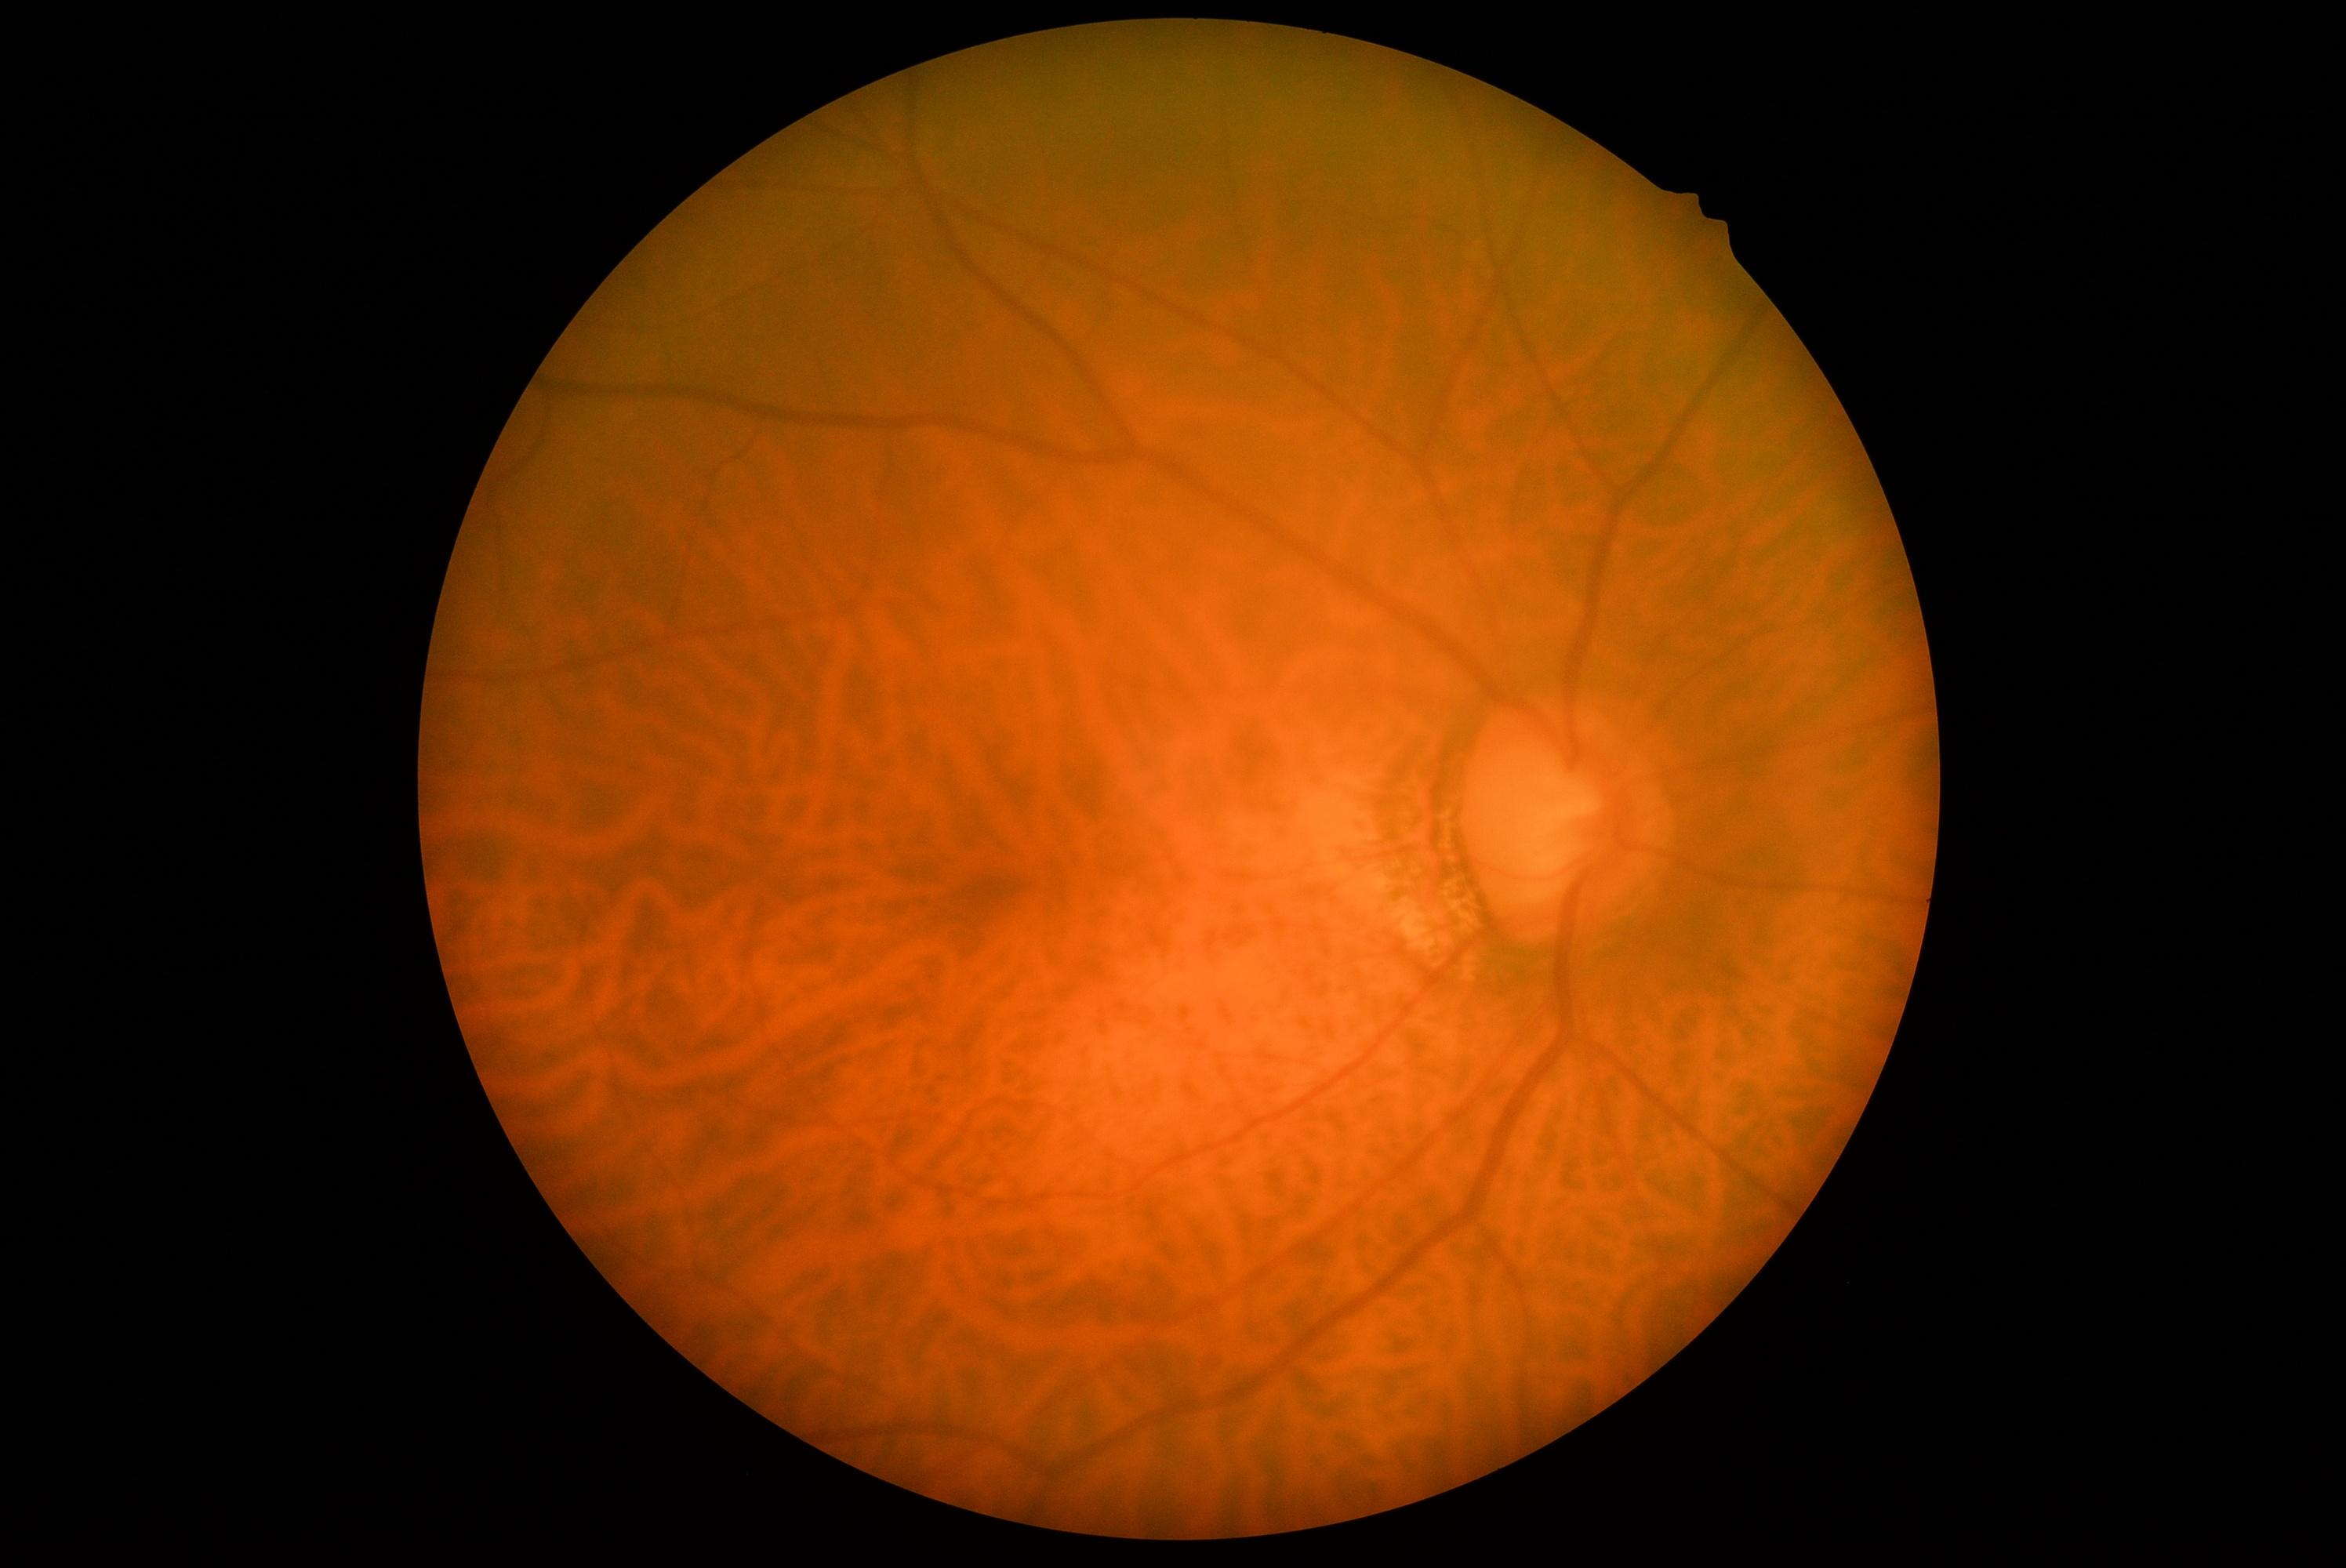Fovea: (957, 796, 1114, 957)
